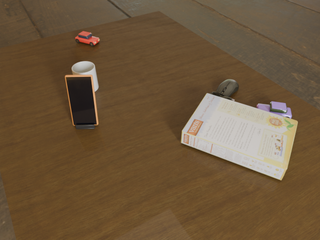box: (181, 93, 298, 180)
cup: (72, 62, 98, 91)
mouse: (210, 79, 239, 101)
phone: (65, 74, 98, 125)
toy_car: (257, 102, 292, 119), (75, 31, 99, 46)
